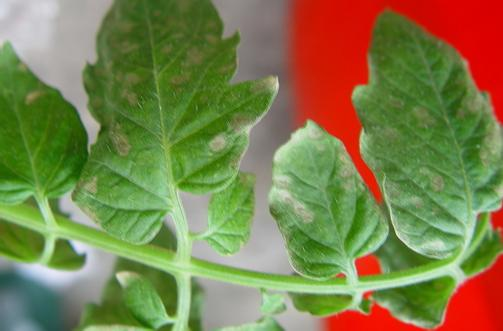Tomato mold leaf: (61, 0, 276, 239), (343, 3, 503, 257), (267, 113, 388, 278), (0, 39, 93, 202)
